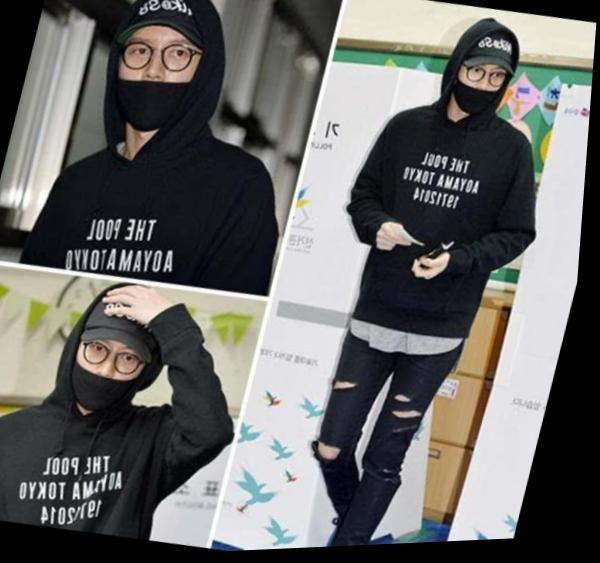WRONG: (108, 14, 211, 140), (71, 326, 161, 419), (450, 58, 511, 123)
